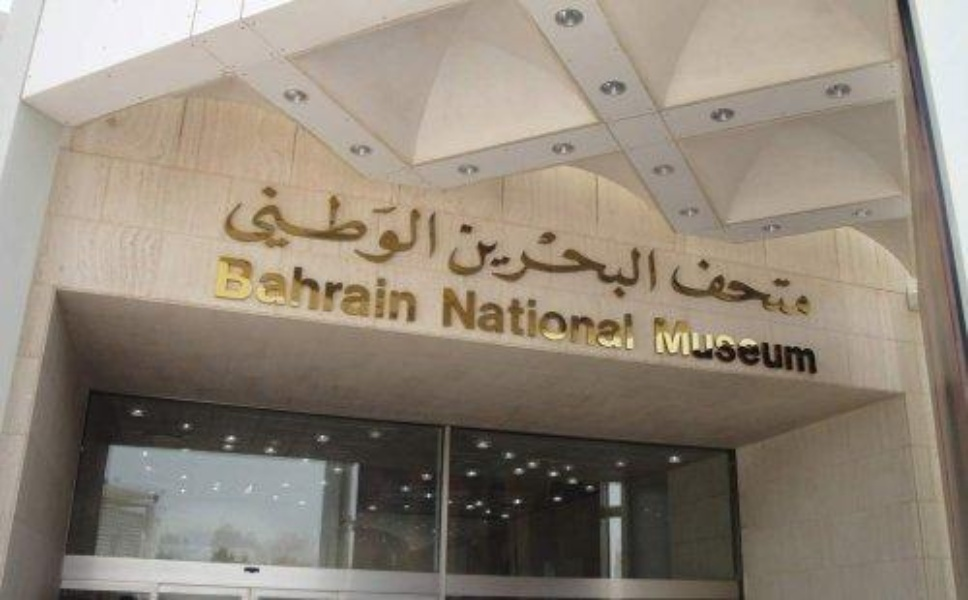text: (241, 175, 256, 275), (257, 175, 272, 275), (273, 175, 288, 275), (289, 175, 304, 275), (305, 175, 320, 275), (321, 175, 336, 275), (337, 175, 352, 275), (353, 175, 368, 275), (369, 175, 384, 275), (385, 175, 400, 275), (401, 175, 416, 275), (417, 175, 432, 275), (465, 213, 480, 306), (481, 213, 496, 306), (497, 213, 512, 306), (513, 213, 528, 306), (529, 213, 544, 306), (545, 213, 560, 306), (561, 213, 576, 306), (577, 213, 592, 306), (593, 213, 608, 306), (609, 213, 624, 306), (625, 213, 640, 306), (641, 213, 656, 306), (450, 213, 464, 306), (673, 250, 688, 326), (689, 250, 704, 326), (705, 250, 720, 326), (721, 250, 736, 326), (737, 250, 752, 326), (753, 250, 768, 326), (769, 250, 784, 326), (785, 250, 800, 326), (801, 250, 816, 326), (225, 252, 240, 326), (241, 252, 256, 326), (257, 252, 272, 326), (273, 252, 288, 326), (289, 252, 304, 326), (305, 252, 320, 326), (321, 252, 336, 326), (337, 252, 352, 326), (353, 252, 368, 326), (369, 252, 384, 326), (385, 252, 400, 326), (401, 252, 416, 326), (229, 175, 240, 275), (433, 175, 444, 275), (449, 281, 464, 353), (465, 281, 480, 353), (481, 281, 496, 353), (497, 281, 512, 353), (513, 281, 528, 353), (529, 281, 544, 353), (545, 281, 560, 353), (561, 281, 576, 353), (577, 281, 592, 353), (593, 281, 608, 353), (609, 281, 624, 353), (657, 310, 672, 378), (673, 310, 688, 378), (689, 310, 704, 378), (705, 310, 720, 378), (721, 310, 736, 378), (737, 310, 752, 378), (753, 310, 768, 378), (769, 310, 784, 378), (785, 310, 800, 378), (801, 310, 816, 378), (213, 252, 224, 326), (625, 281, 636, 353), (440, 281, 448, 353), (657, 213, 663, 306), (649, 310, 656, 378), (417, 252, 423, 326), (817, 310, 821, 378), (670, 250, 672, 326)
